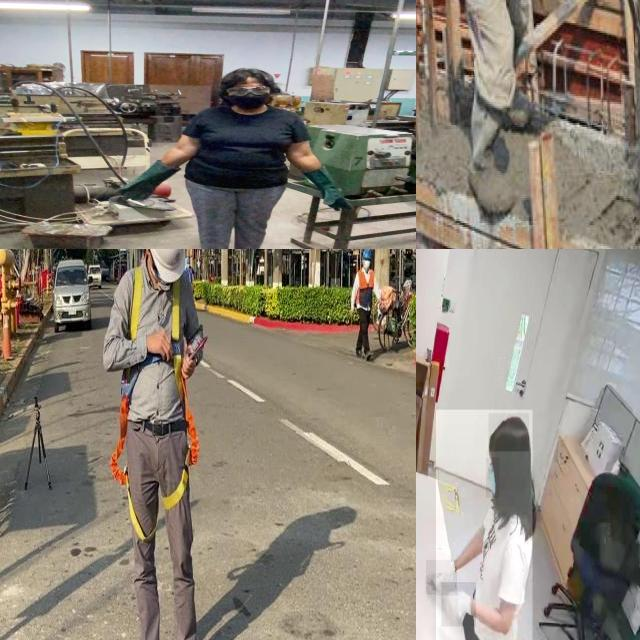Harness: (110, 279, 200, 512)
face_mask: (222, 84, 276, 112), (486, 458, 500, 498)
glasses: (222, 84, 274, 97)
hand_glove: (442, 582, 476, 627), (108, 177, 157, 203), (426, 560, 457, 595), (318, 187, 354, 213)
head_nohelmet: (488, 413, 530, 452), (220, 65, 274, 85)
person: (111, 68, 357, 249), (444, 0, 607, 217), (436, 409, 533, 640)
shoes: (463, 148, 519, 225)
